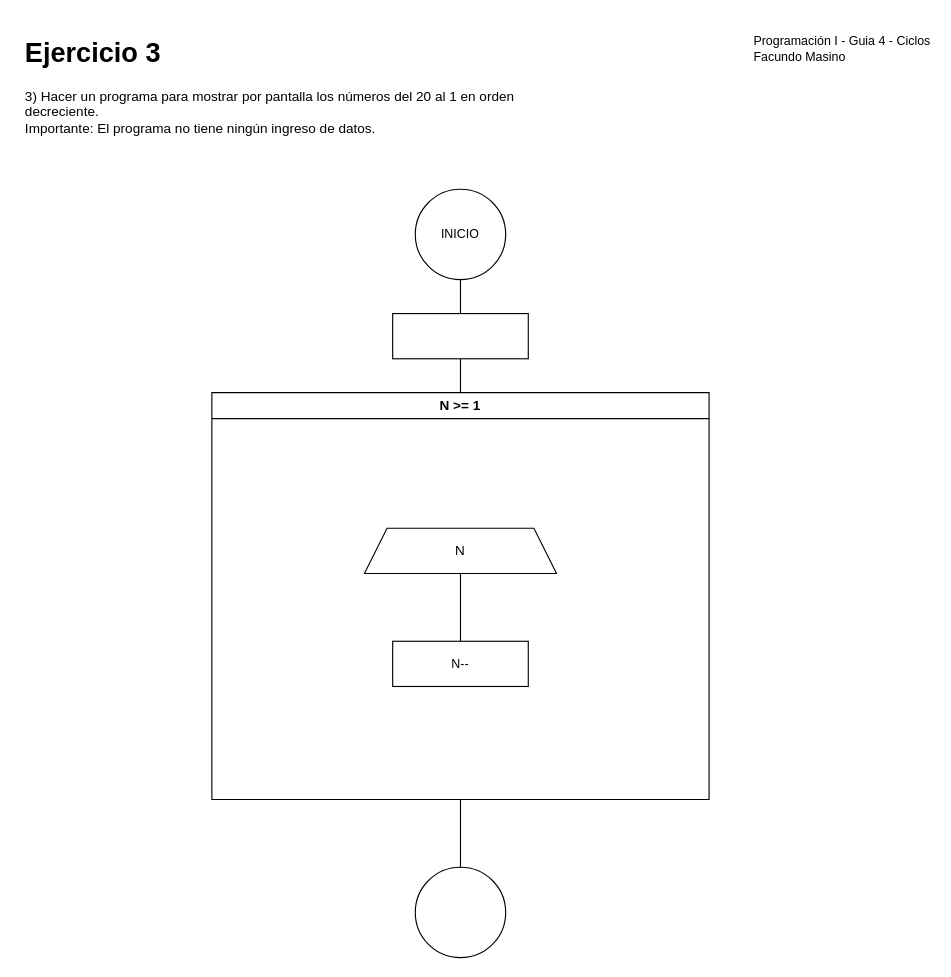
Image size: 951x977. Some labels were removed from this diagram. Here are the shapes that lost their labels. From the top down, the centre of each, then its label:
(460,335): N = 20
(460,912): FIN
